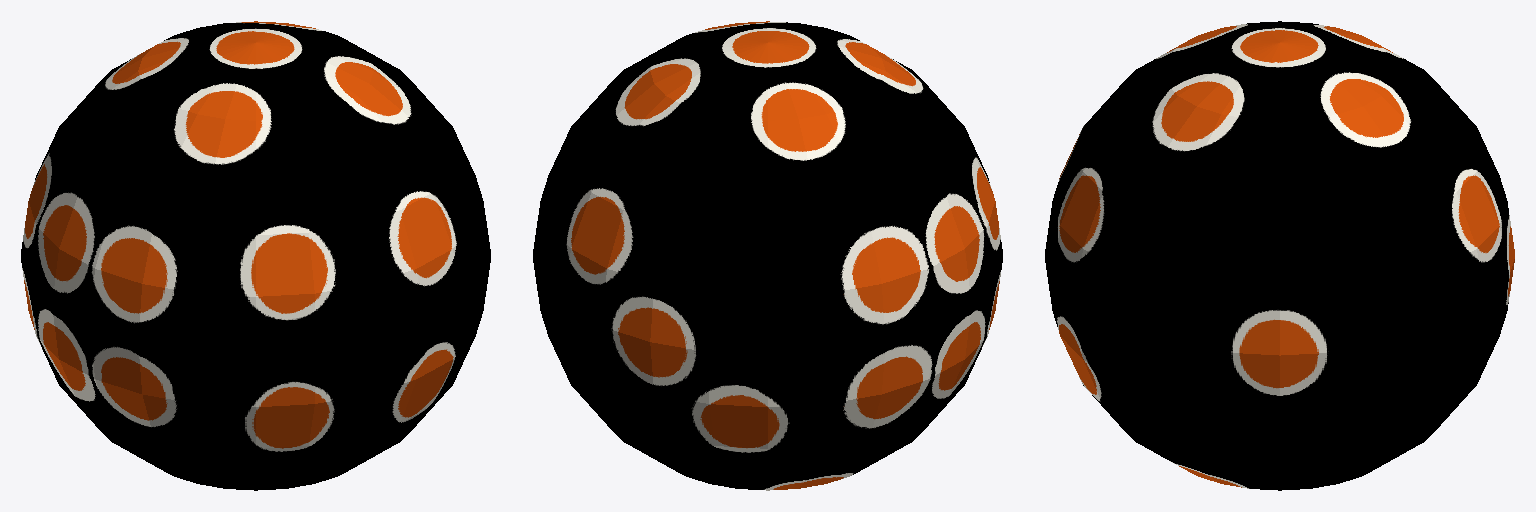
The picture shows the model from 3 angles: view 1: azimuth 30°, elevation 25°; view 2: azimuth 150°, elevation 25°; view 3: azimuth 270°, elevation 25°; orthographic projection.
Parts seen in each view (by area): view 1: Sphere_None; view 2: Sphere_None; view 3: Sphere_None.
Boxes of the visible parts, box(x1,y1,x2,y2) form: Sphere_None: box(21, 21, 490, 490); Sphere_None: box(533, 21, 1002, 490); Sphere_None: box(1045, 21, 1514, 490).
Bounding box in the file's own units: 2 × 2 × 2.
1 materials, 1 textured.